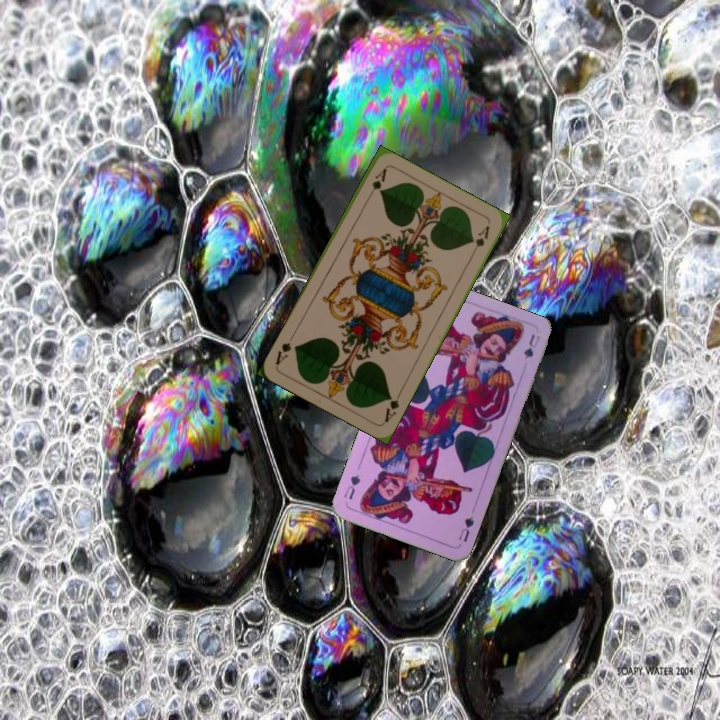GA: (364, 164, 389, 202), (380, 387, 404, 425)
GU: (454, 512, 477, 544)
